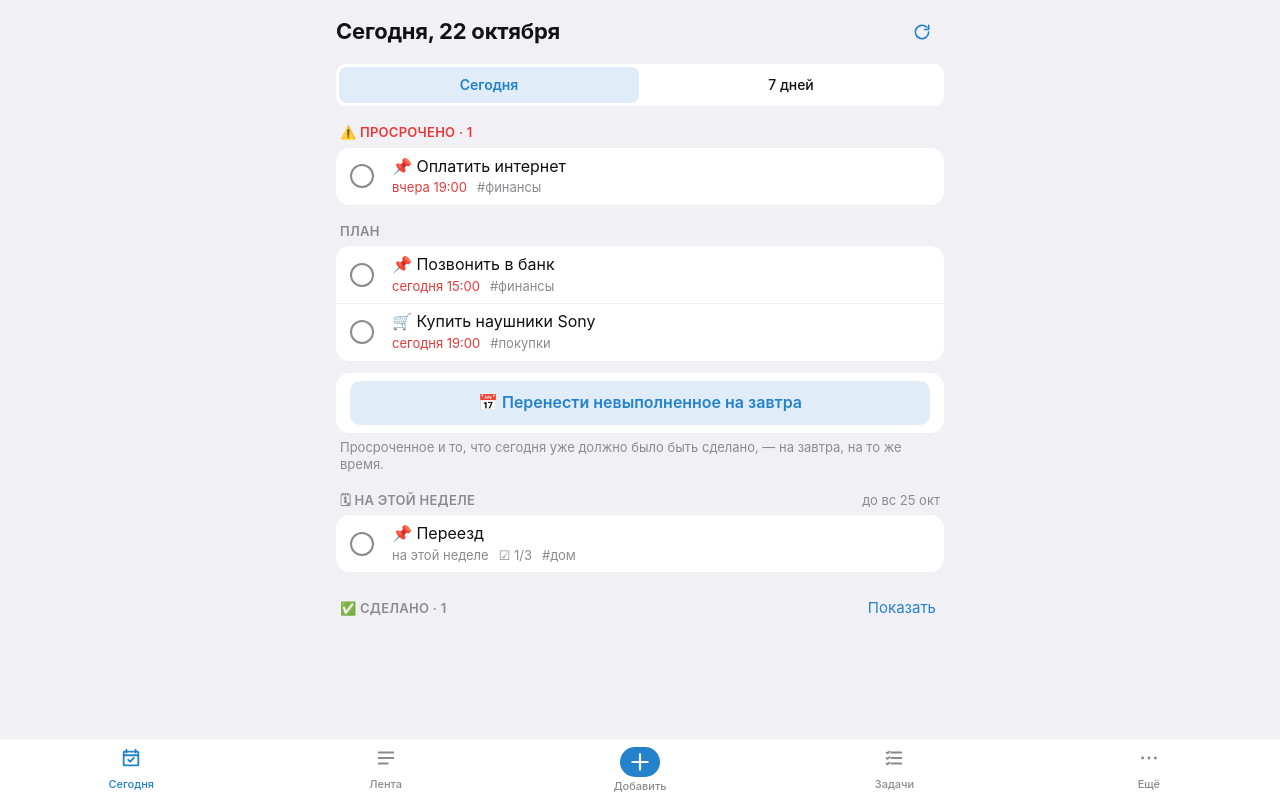
Test: with the mock API › throws a text into the dump and shows what came of it
expect the text "Позвонить в банк" is shown: met, box [416, 254, 555, 274]
Click the button "Добавить" at (640, 772), box [513, 743, 767, 799]
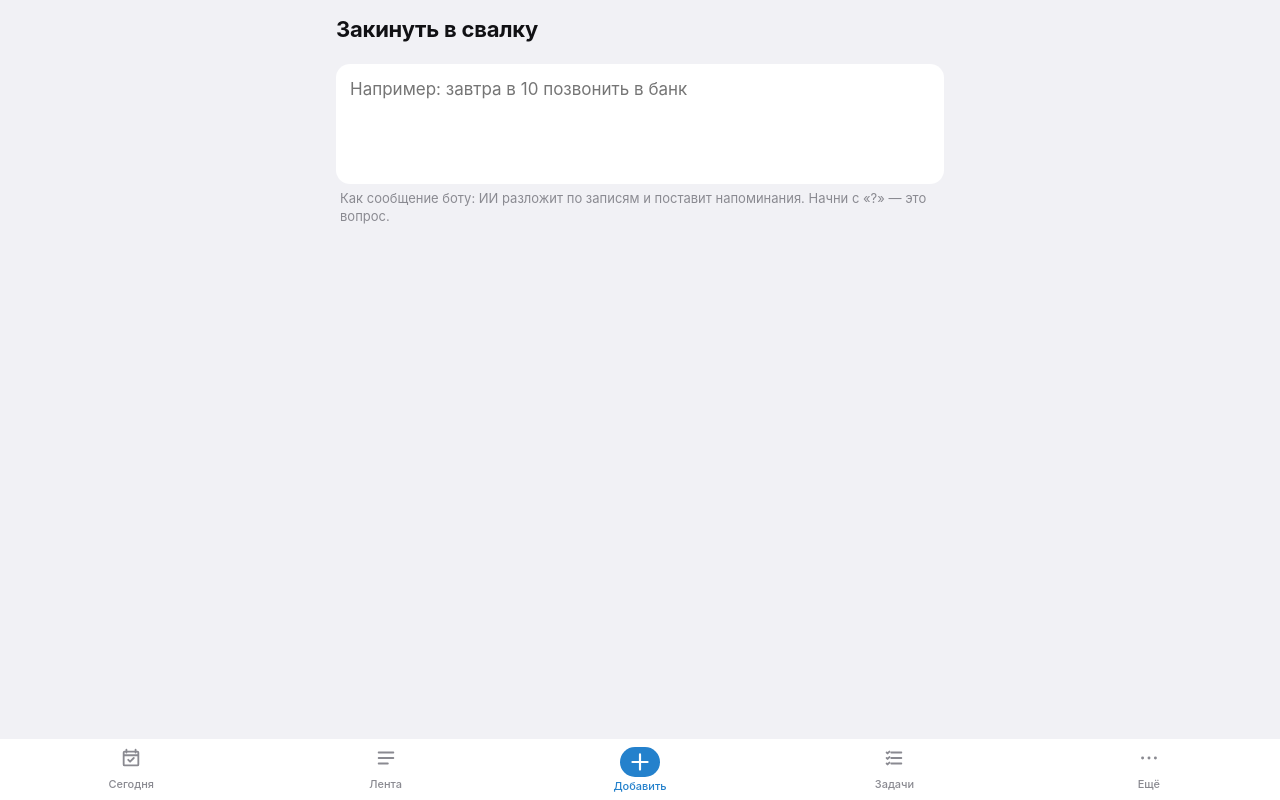
Type "завтра в 11 купить молоко" into the text box named "Что закинуть" at (640, 124), box [336, 64, 944, 184]
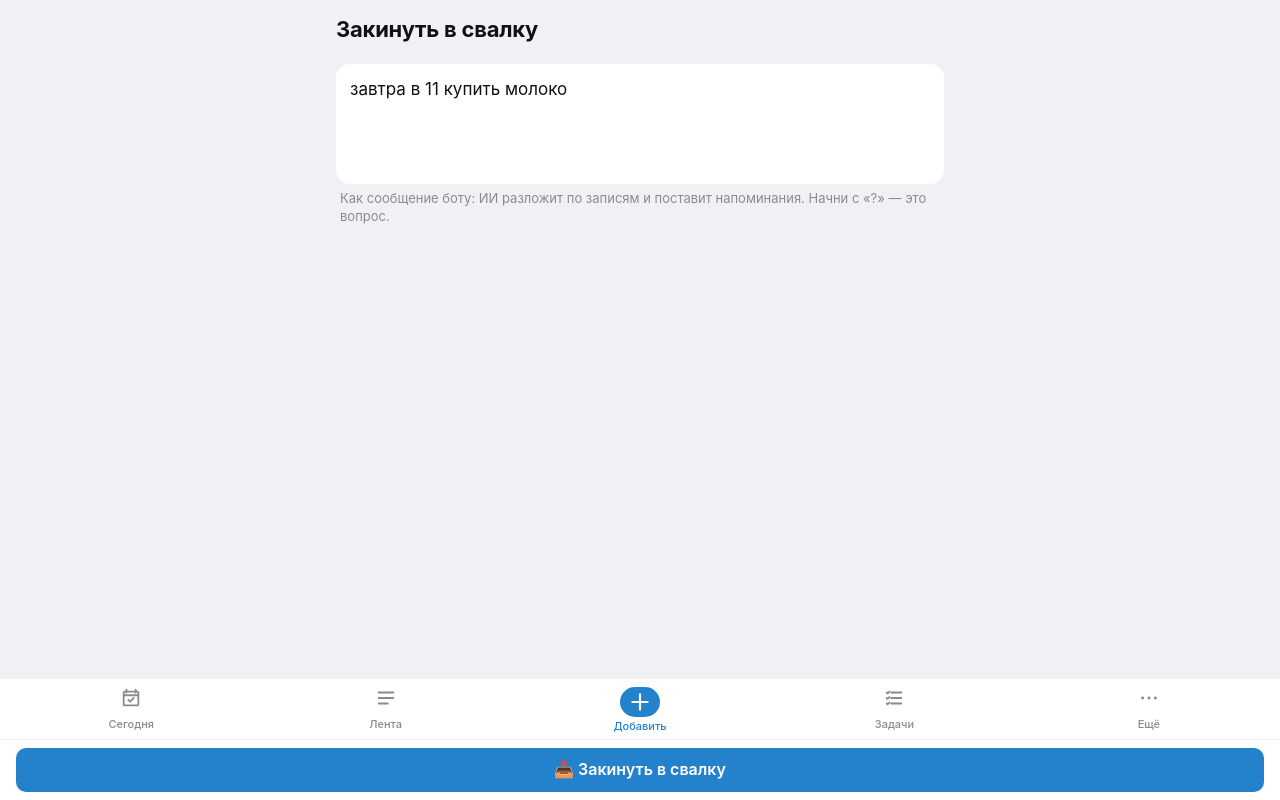
Click the button "📥 Закинуть в свалку" at (640, 770), box [16, 748, 1264, 792]
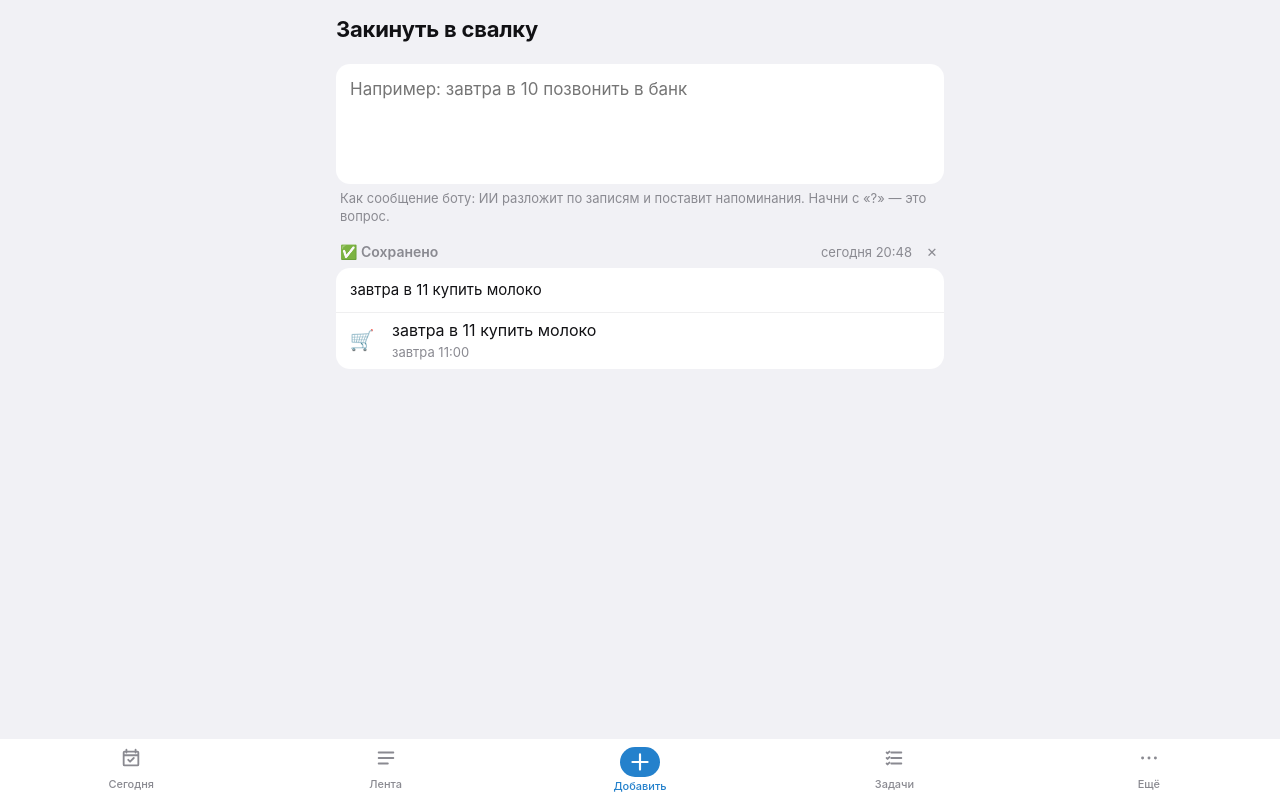
expect the text "✅ Сохранено" is shown: met, box [340, 243, 438, 262]
expect the text "завтра 11:00" is shown: met, box [392, 344, 469, 361]
